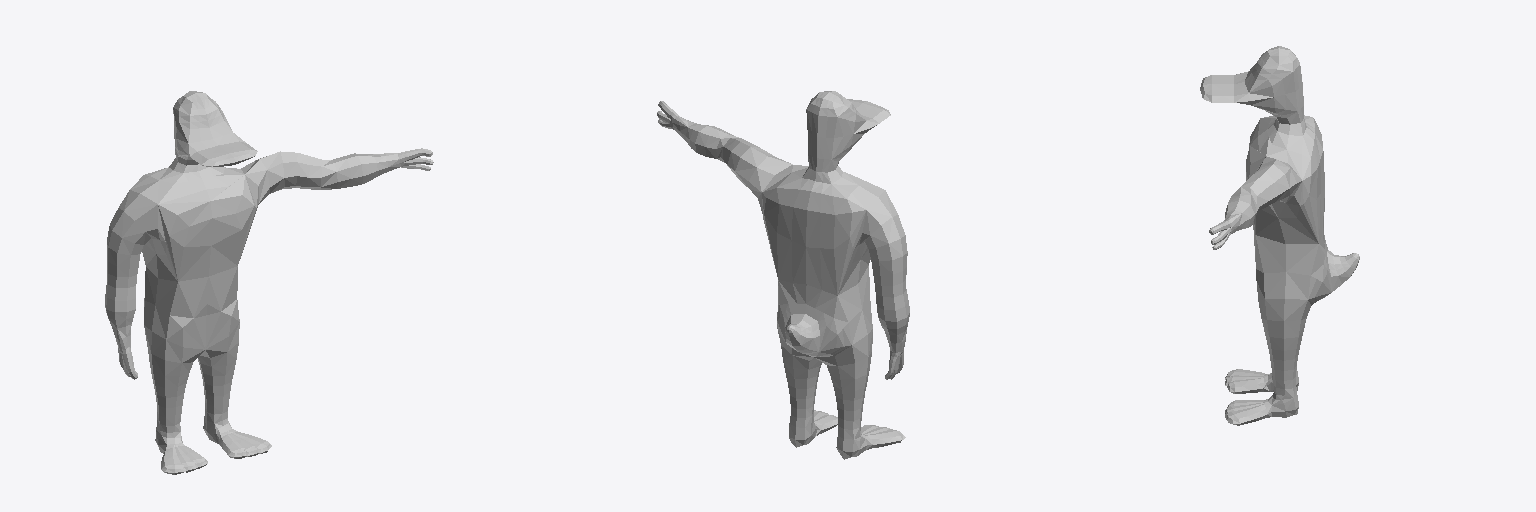
The model's file is canard_000020.obj.
The picture shows the model from 3 angles: view 1: azimuth 30°, elevation 25°; view 2: azimuth 150°, elevation 25°; view 3: azimuth 270°, elevation 25°; orthographic projection.
Visible parts, largest first — view 1: Cube; view 2: Cube; view 3: Cube.
Part boxes in pixels (x1,y1,x2,y2): Cube: (105, 91, 433, 474); Cube: (657, 91, 909, 459); Cube: (1200, 46, 1359, 425).
Bounding box in the file's own units: 2.37 × 2.8 × 1.14.